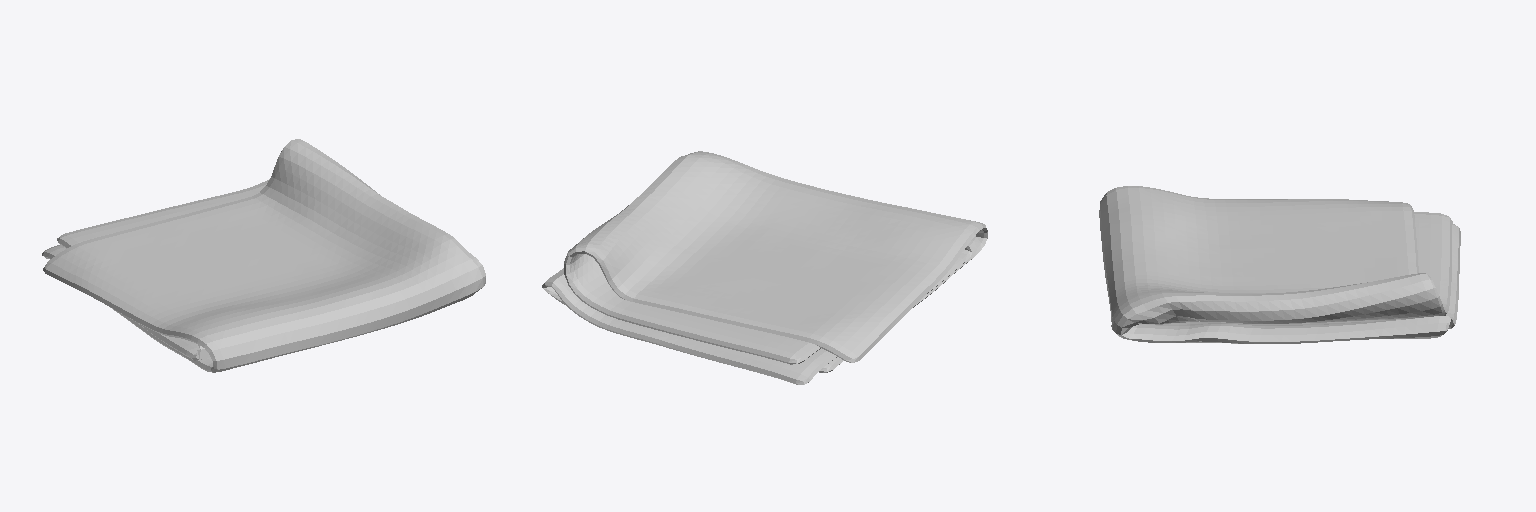
File: tan.obj
The picture shows the model from 3 angles: view 1: azimuth 30°, elevation 25°; view 2: azimuth 150°, elevation 25°; view 3: azimuth 270°, elevation 25°; orthographic projection.
Visible parts, largest first — view 1: file.008; view 2: file.008; view 3: file.008.
Part boxes in pixels (x1,y1,x2,y2): file.008: (42,139,485,372); file.008: (542,151,987,384); file.008: (1099,186,1460,343).
Bounding box in the file's own units: 1.42 × 0.319 × 1.47.